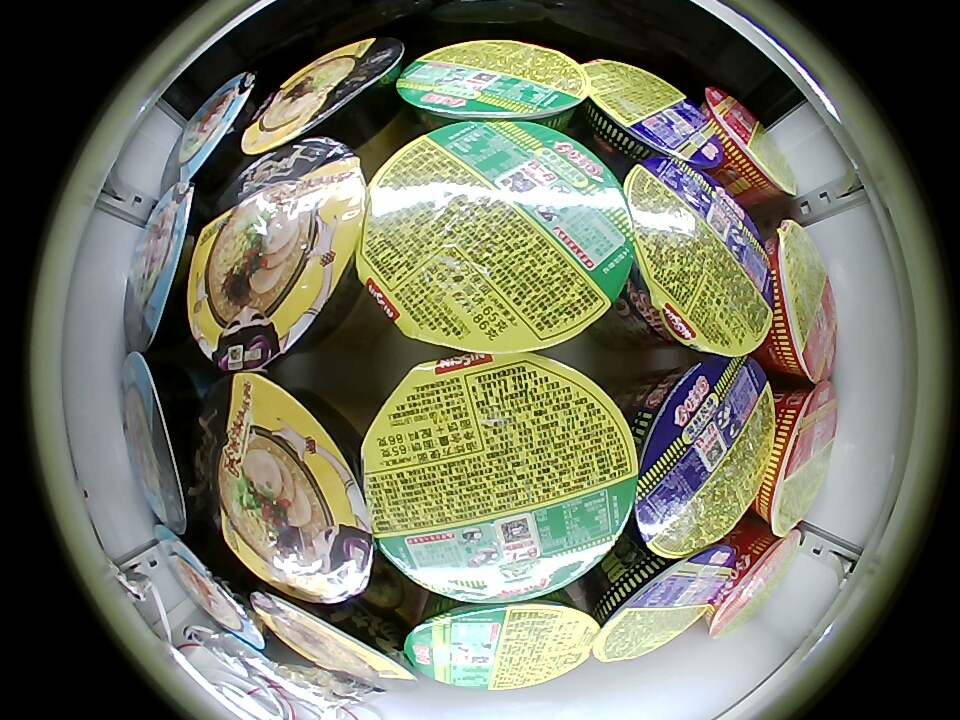heweidao: (623, 156, 775, 358), (633, 355, 774, 559), (591, 546, 734, 664), (582, 58, 716, 167)
heweidao2: (359, 352, 638, 606), (357, 120, 635, 356), (403, 595, 600, 692), (397, 41, 588, 130)
heweidao3: (754, 381, 838, 537), (765, 219, 838, 385), (703, 86, 799, 206), (707, 525, 801, 638)
tangdaren2: (184, 139, 367, 372), (202, 373, 378, 603), (240, 36, 406, 155), (252, 589, 415, 692)
tangdaren3: (119, 354, 210, 533), (154, 521, 268, 652), (124, 181, 203, 351), (160, 70, 262, 195)
